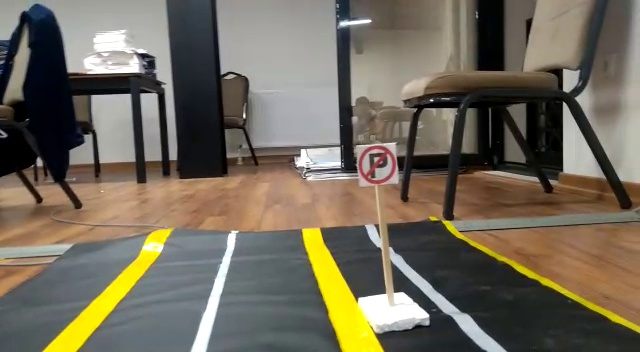park_yapilmaz: (354, 142, 397, 186)
